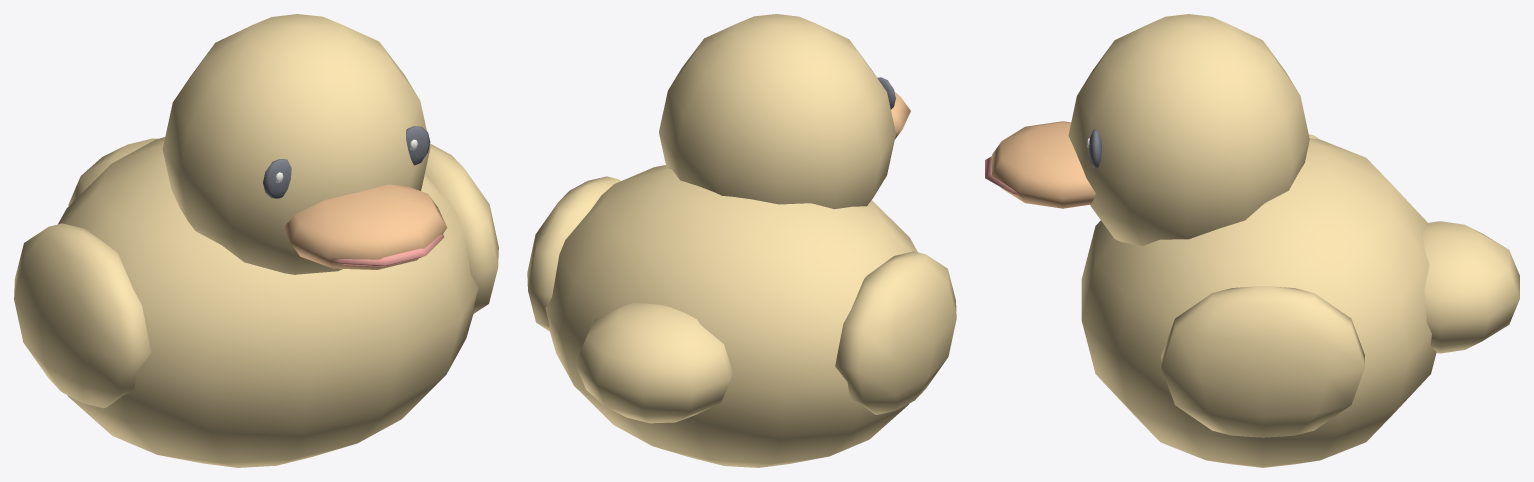
Rendered from 21_patito_gigante.glb.
The picture shows the model from 3 angles, left to right: view 1: azimuth 30°, elevation 25°; view 2: azimuth 150°, elevation 25°; view 3: azimuth 270°, elevation 25°; orthographic projection. The views are drawn at different scales.
Parts seen in each view (by area): view 1: body (×4); view 2: body (×2); view 3: body (×2).
Part boxes in pixels (x1,y1,x2,y2): body (×4): (14,14,498,467); body (×2): (527,14,956,467); body (×2): (992,14,1519,467).
Size of the model in its own units: 1 by 0.99 by 1.15.
